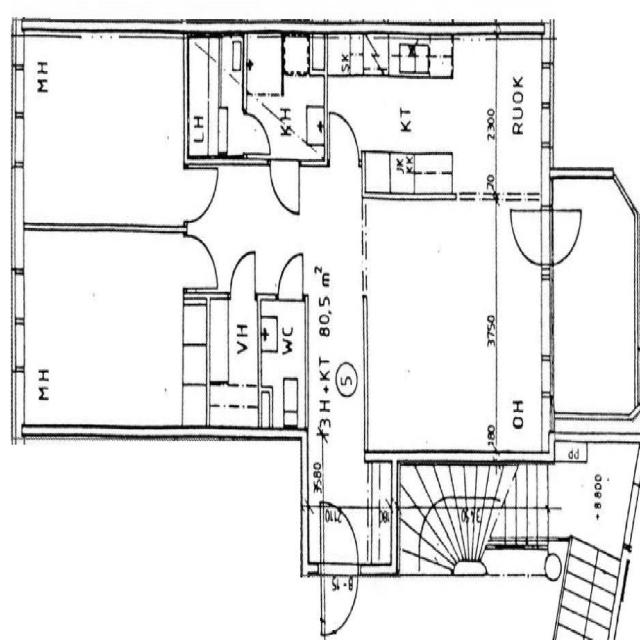door: (187, 38, 247, 168), (318, 502, 362, 640), (506, 200, 574, 268), (179, 225, 223, 297), (181, 158, 222, 226), (543, 200, 585, 266), (267, 155, 304, 221), (325, 106, 363, 168), (237, 108, 272, 166), (274, 248, 307, 306), (228, 246, 260, 302)
window: (549, 412, 640, 462), (8, 262, 29, 370), (9, 112, 28, 175), (450, 557, 492, 581)
zone: (16, 229, 212, 438), (363, 192, 500, 466), (17, 31, 191, 240), (323, 46, 503, 195), (549, 165, 639, 433), (185, 34, 244, 166), (257, 295, 307, 432)
